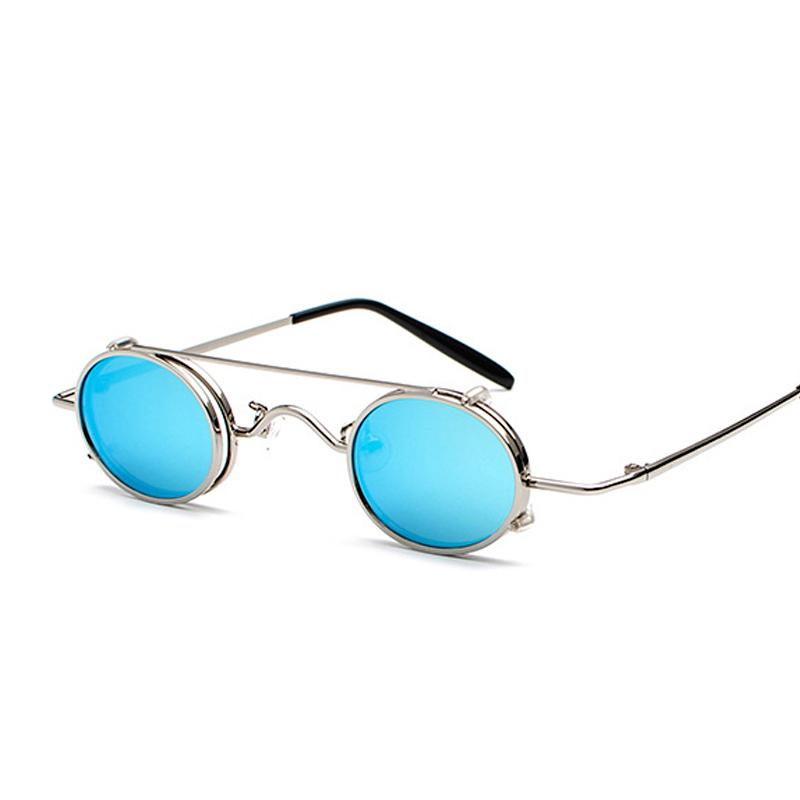sunglasses: (22, 294, 765, 580)
